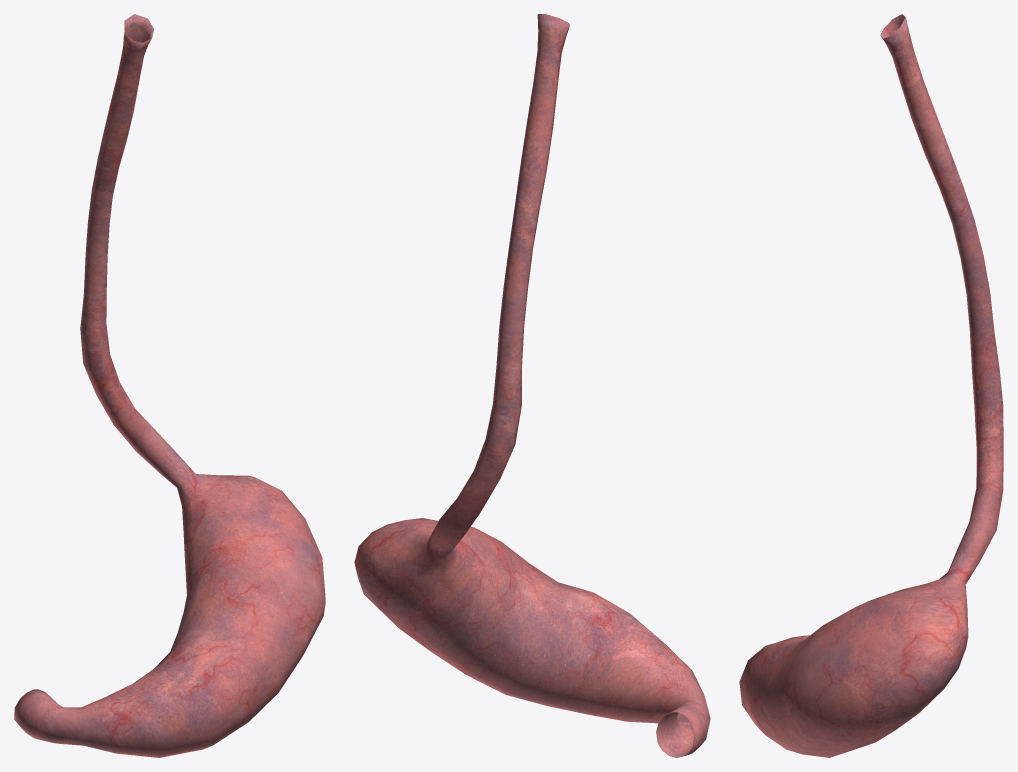
File: stomach.FBX
The picture shows the model from 3 angles, left to right: view 1: azimuth 30°, elevation 25°; view 2: azimuth 150°, elevation 25°; view 3: azimuth 270°, elevation 25°; orthographic projection. The views are drawn at different scales.
Parts seen in each view (by area): view 1: Stomach; view 2: Stomach; view 3: Stomach.
Part boxes in pixels (x1,y1,x2,y2): Stomach: (14,14,325,757); Stomach: (354,14,710,757); Stomach: (739,14,1003,757).
Size of the model in its own units: 141 by 103 by 309.
